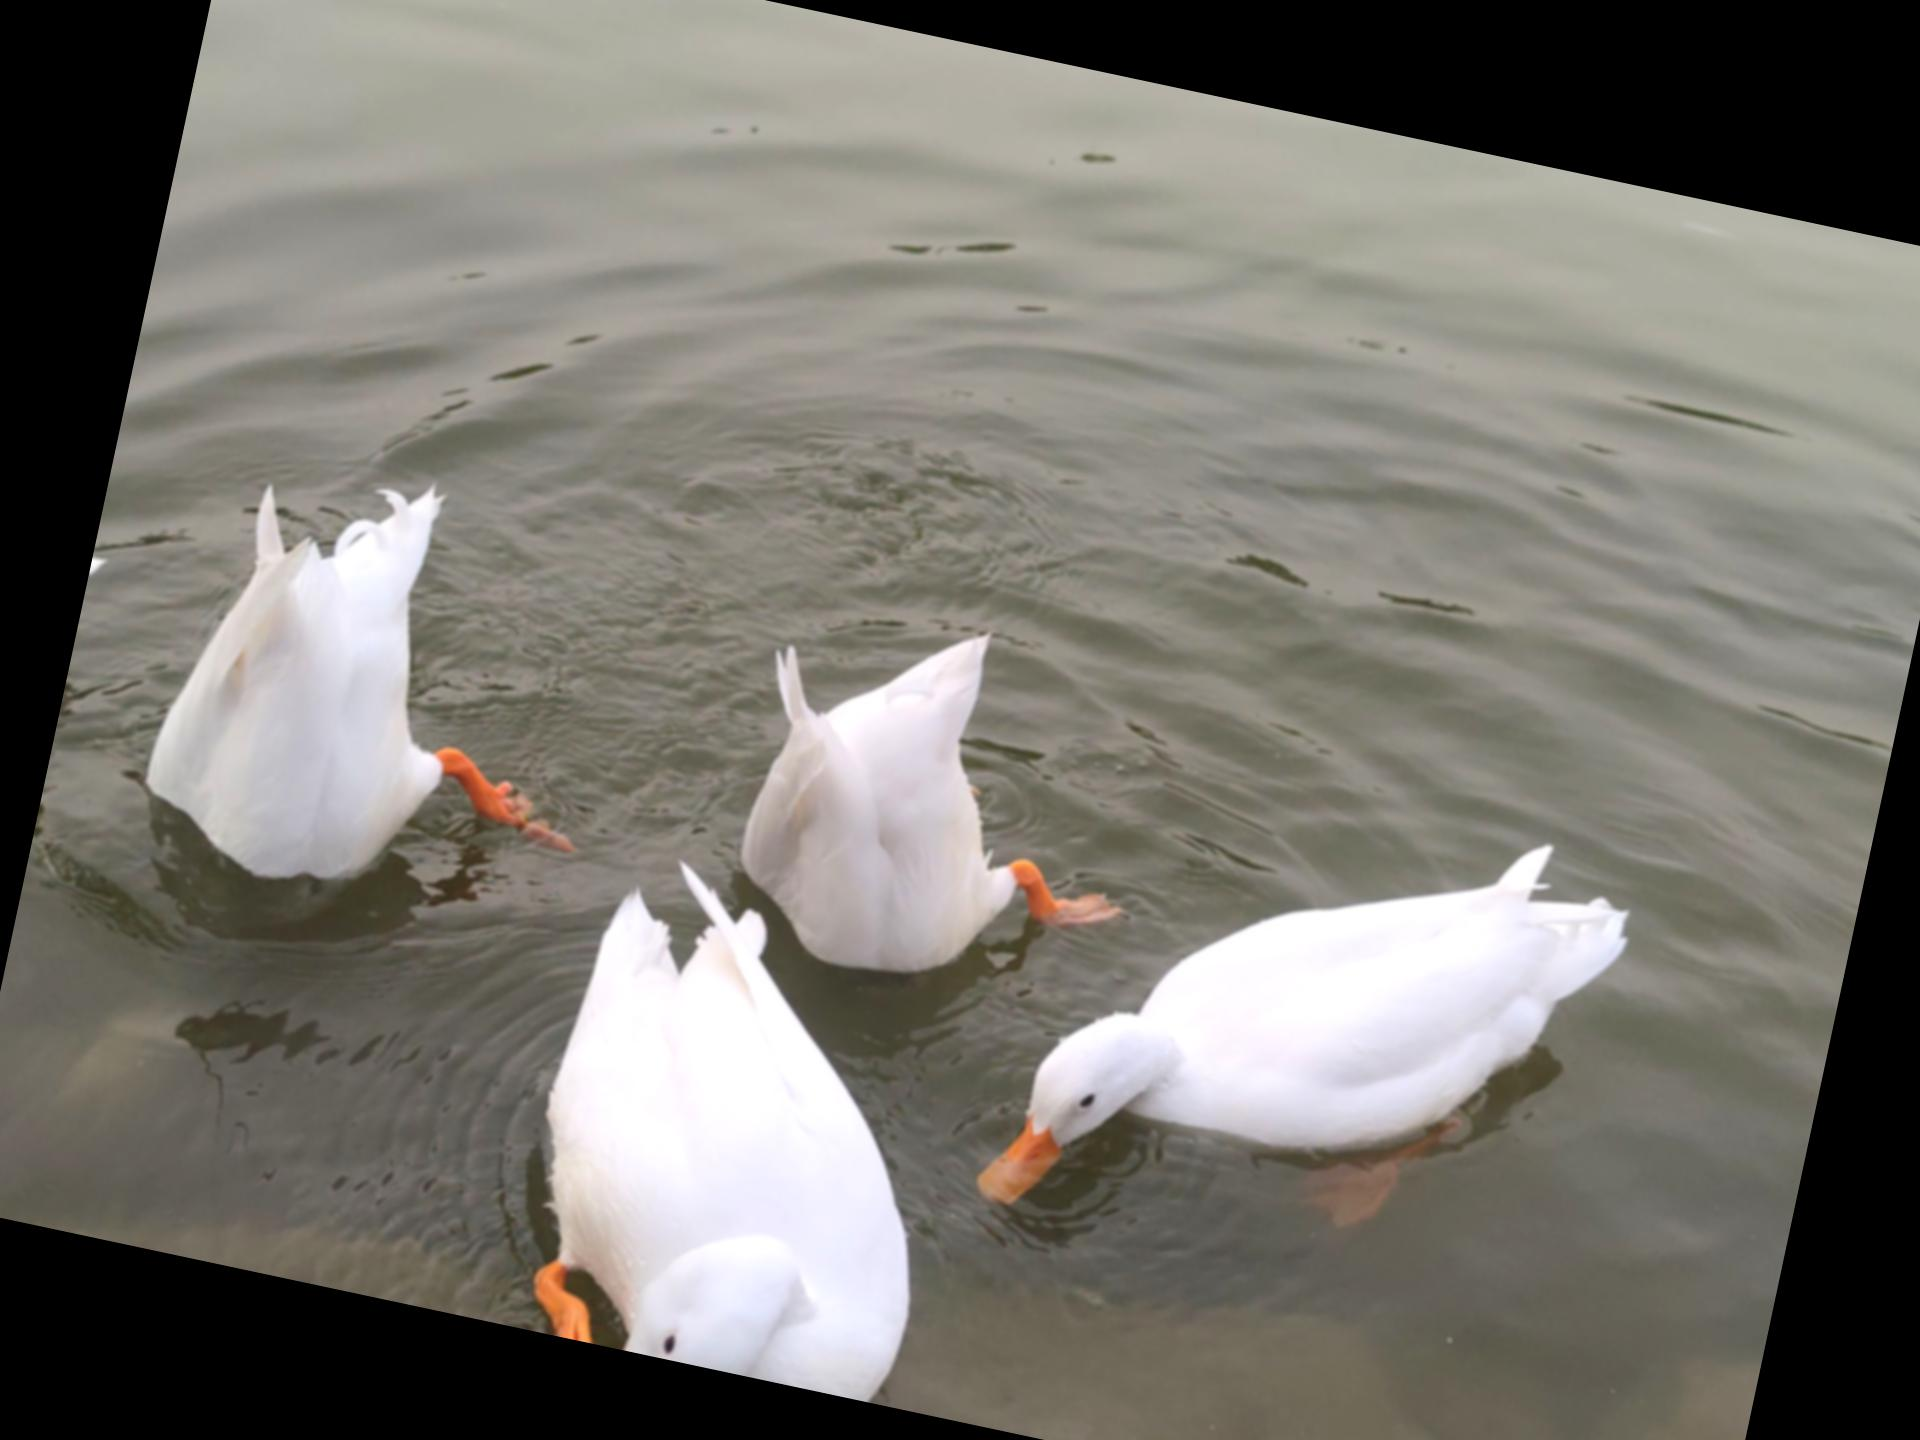duck: (952, 723, 1671, 1346), (473, 818, 1033, 1414), (125, 411, 661, 948), (671, 554, 1191, 1033)
